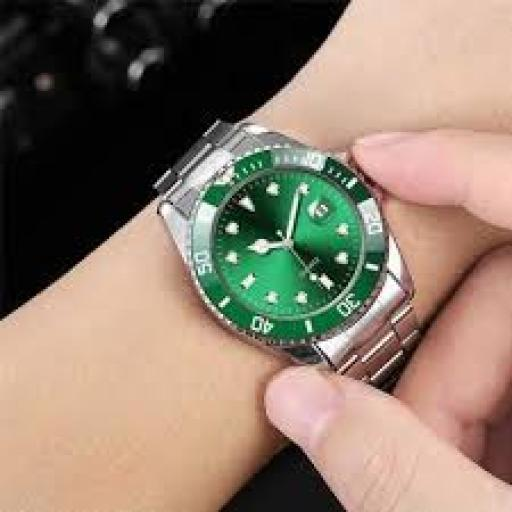KolSaati: (111, 50, 445, 438)
